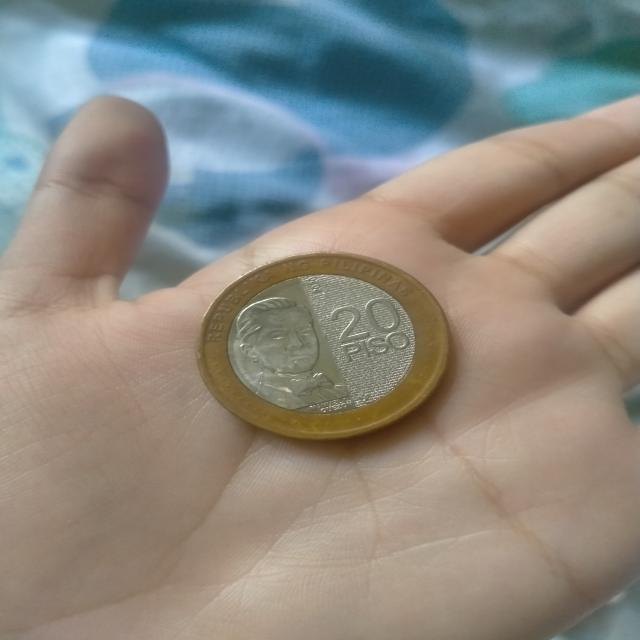20_New_Front: (328, 287, 422, 369)
